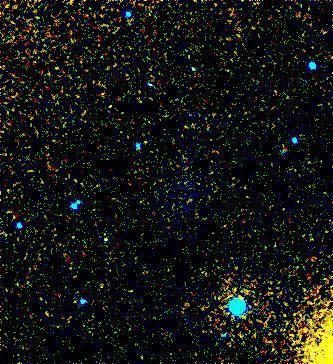star: (176, 111, 206, 141)
